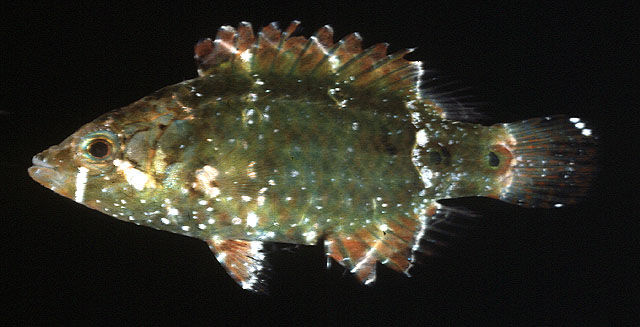fish: (28, 22, 594, 293)
